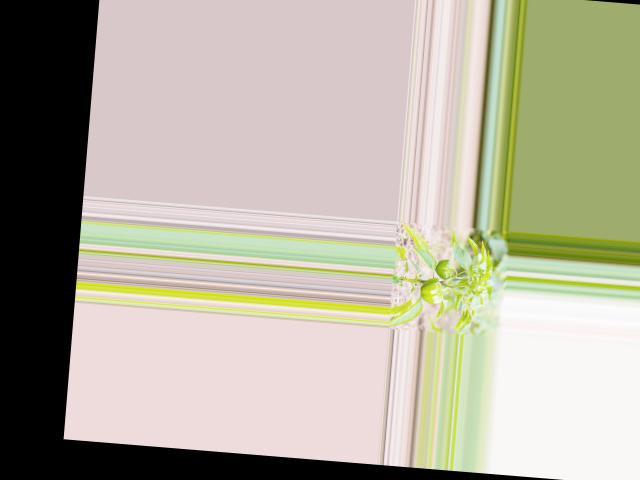bell_pepper: (433, 257, 455, 280)
